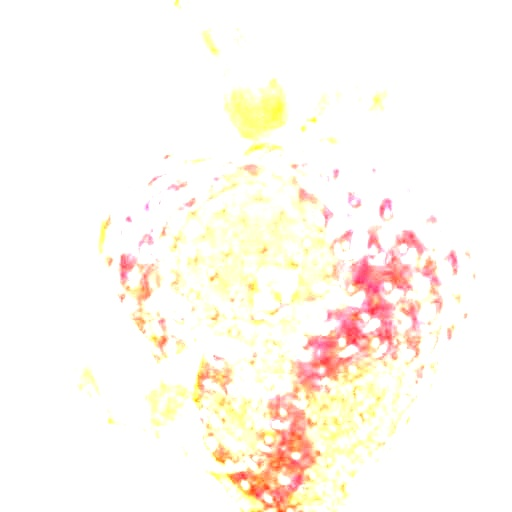Anthracnose Fruit Rot: (131, 149, 465, 511)
